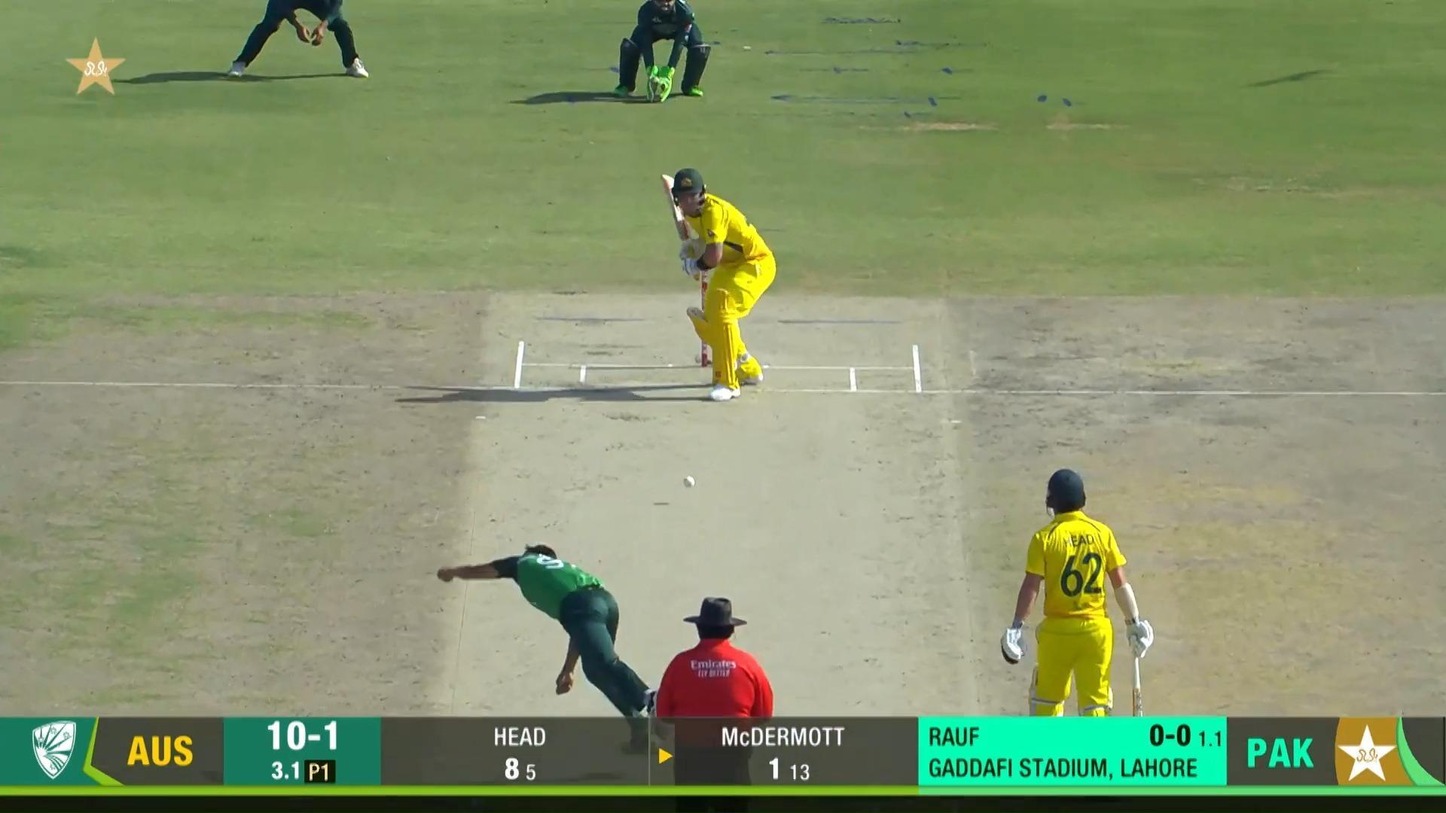BM 1: (657, 165, 778, 403)
BO: (435, 542, 671, 758)
